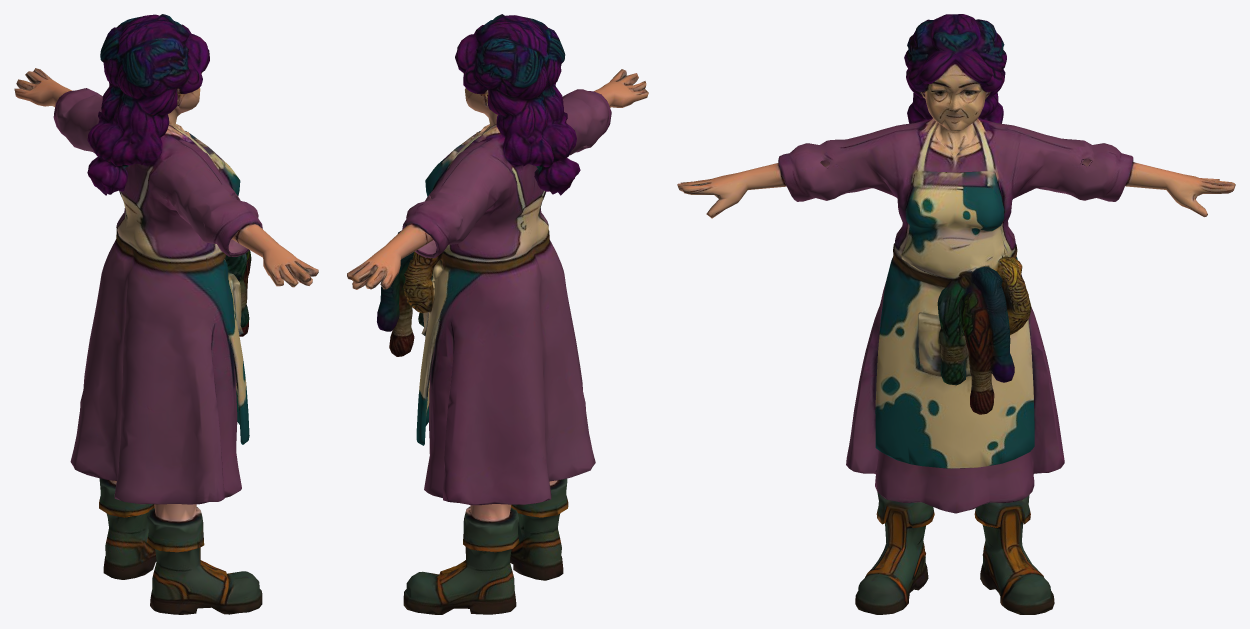
File: n2_dyer.22d81557.glb
3 renders of one model, left to right at view 1: azimuth 30°, elevation 25°; view 2: azimuth 150°, elevation 25°; view 3: azimuth 270°, elevation 25°, orthographic.
Visible parts, largest first — view 1: tripo_node_ba96ed0e-b230-43e5-8476-a2c821f5a79f; view 2: tripo_node_ba96ed0e-b230-43e5-8476-a2c821f5a79f; view 3: tripo_node_ba96ed0e-b230-43e5-8476-a2c821f5a79f.
Boxes of the visible parts, <box> form: tripo_node_ba96ed0e-b230-43e5-8476-a2c821f5a79f: <box>14,14,318,614</box>; tripo_node_ba96ed0e-b230-43e5-8476-a2c821f5a79f: <box>347,14,648,614</box>; tripo_node_ba96ed0e-b230-43e5-8476-a2c821f5a79f: <box>677,14,1235,614</box>.
Bounding box in the file's own units: 0.3198 × 1 × 0.8983.
1 material, 1 textured.
